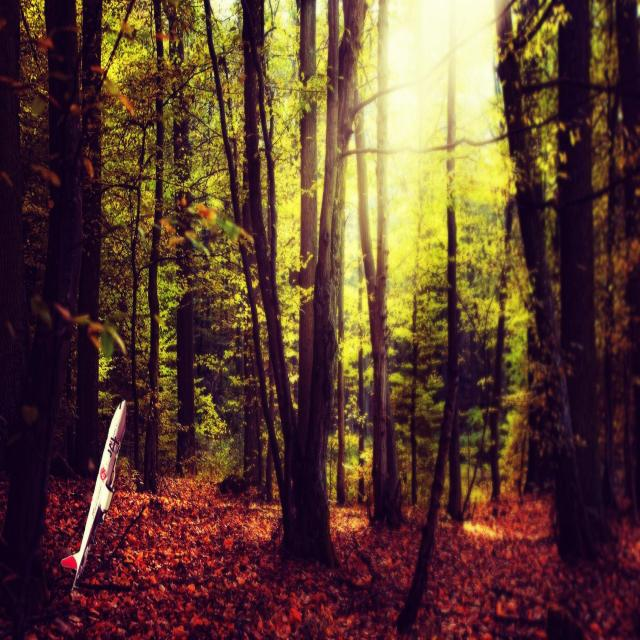airplane: (60, 398, 127, 592)
